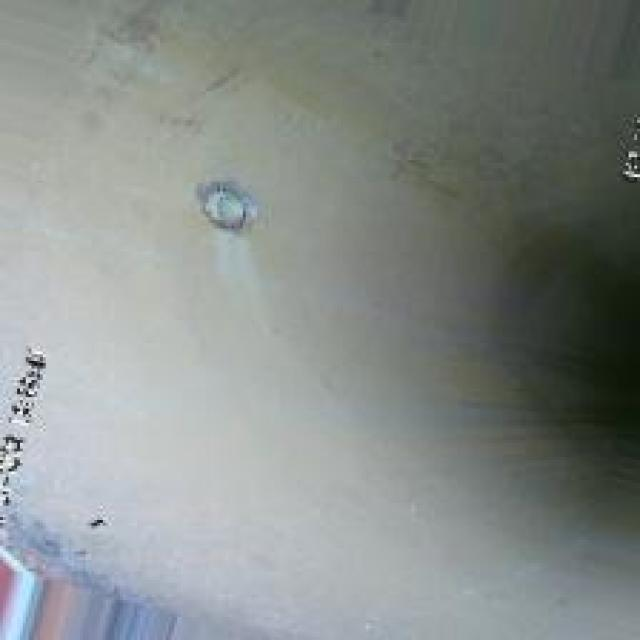ferrule: (183, 160, 268, 240)
